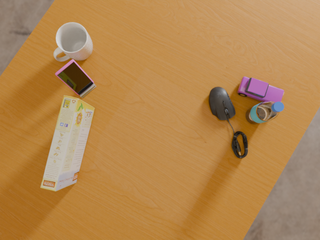bottle: (246, 101, 284, 124)
box: (41, 96, 95, 191)
cup: (54, 22, 93, 61)
mouse: (209, 87, 235, 122)
phone: (55, 60, 94, 95)
toy_car: (237, 77, 284, 102)
